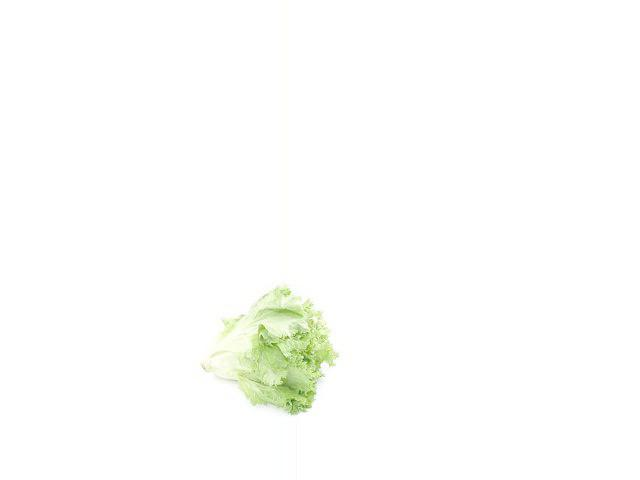lettuce: (186, 278, 340, 410)
